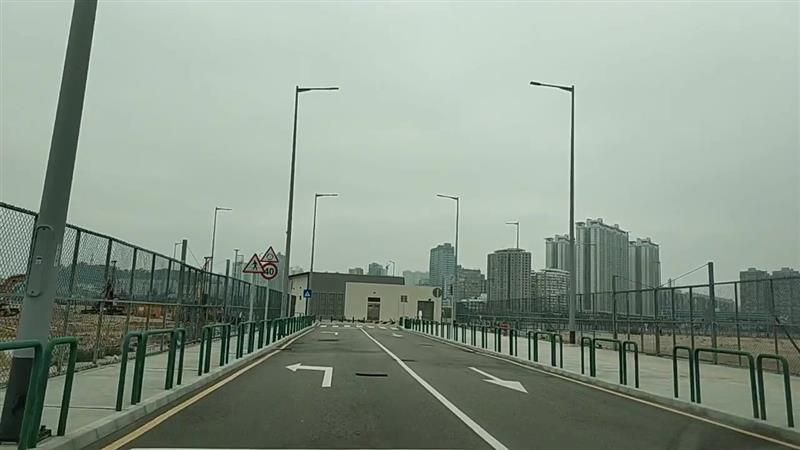limit40: (261, 263, 278, 279)
pedestriansBlue: (302, 288, 314, 298)
pedestriansRed: (242, 253, 266, 274)
roadDown: (467, 364, 529, 394)
roadTurnLeft: (283, 361, 334, 391)
roundabout: (259, 244, 280, 263)
